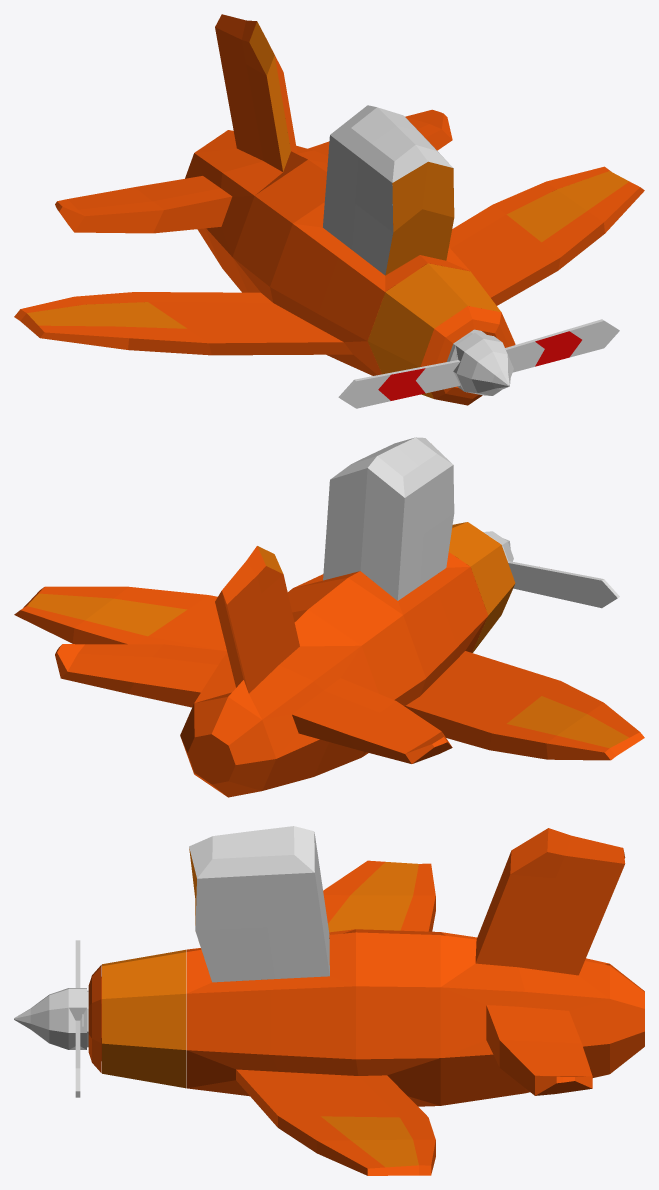
The picture shows the model from 3 angles, top to bottom: view 1: azimuth 30°, elevation 25°; view 2: azimuth 150°, elevation 25°; view 3: azimuth 270°, elevation 25°; orthographic projection. The views are drawn at different scales.
Visible parts, largest first — view 1: Cylinder, Cylinder.001; view 2: Cylinder, Cylinder.001; view 3: Cylinder, Cylinder.001.
Part boxes in pixels (x1,y1,x2,y2): Cylinder: (14, 14, 644, 405); Cylinder.001: (338, 319, 619, 408); Cylinder: (14, 437, 644, 797); Cylinder.001: (483, 531, 619, 608); Cylinder: (88, 826, 644, 1175); Cylinder.001: (14, 940, 88, 1097).
Bounding box in the file's own units: 10.03 × 4.18 × 8.55.
